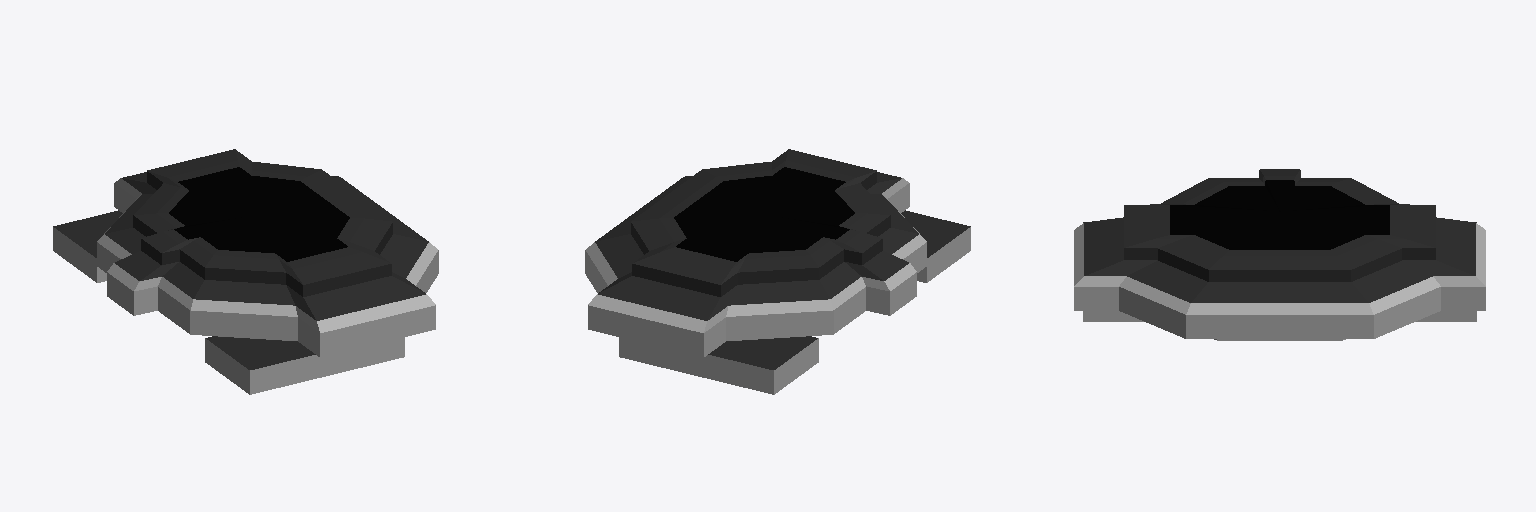
The model's file is Building5.obj.
The picture shows the model from 3 angles: view 1: azimuth 30°, elevation 25°; view 2: azimuth 150°, elevation 25°; view 3: azimuth 270°, elevation 25°; orthographic projection.
Visible parts, largest first — view 1: Roof_Roof_Roof.002, Roof_Roof_Skylight.002, TopLeftWing_LeftWing_Walls.008, TopLeftWing_LeftWing_Roof.008, BottomLeftWing_LeftWing.001_Walls.003, TopFloorFront_TopFloor_Walls.005, TopFloorFront_TopFloor_Roof.005, BottomLeftWing_LeftWing.001_BottomRoof.003, BottomRightWing_RightWing.001_BottomRoof, BottomRightWing_RightWing.001_Walls, TopRightWing_RightWing_Roof.006, TopFloorBack_TopFloor.001_Roof.007 (+1 smaller); view 2: Roof_Roof_Roof.002, Roof_Roof_Skylight.002, TopRightWing_RightWing_Walls.006, TopRightWing_RightWing_Roof.006, BottomRightWing_RightWing.001_Walls, TopFloorFront_TopFloor_Walls.005, TopFloorFront_TopFloor_Roof.005, BottomRightWing_RightWing.001_BottomRoof, BottomLeftWing_LeftWing.001_BottomRoof.003, BottomLeftWing_LeftWing.001_Walls.003, TopLeftWing_LeftWing_Roof.008, TopFloorBack_TopFloor.001_Roof.007 (+1 smaller); view 3: Roof_Roof_Roof.002, Roof_Roof_Skylight.002, TopFloorBack_TopFloor.001_Walls.007, TopRightWing_RightWing_Walls.006, TopLeftWing_LeftWing_Walls.008, TopRightWing_RightWing_Roof.006, TopLeftWing_LeftWing_Roof.008, TopFloorBack_TopFloor.001_Roof.007, BottomRightWing_RightWing.001_Walls, BottomLeftWing_LeftWing.001_Walls.003.
Boxes of the visible parts, box(x1,y1,x2,y2) form: Roof_Roof_Roof.002: box(133, 149, 392, 296); Roof_Roof_Skylight.002: box(169, 167, 349, 261); TopLeftWing_LeftWing_Walls.008: box(190, 242, 438, 357); TopLeftWing_LeftWing_Roof.008: box(194, 234, 428, 320); BottomLeftWing_LeftWing.001_Walls.003: box(205, 337, 404, 394); TopFloorFront_TopFloor_Walls.005: box(97, 234, 192, 333); TopFloorFront_TopFloor_Roof.005: box(105, 228, 203, 298); BottomLeftWing_LeftWing.001_BottomRoof.003: box(206, 336, 315, 369); BottomRightWing_RightWing.001_BottomRoof: box(53, 210, 122, 257); BottomRightWing_RightWing.001_Walls: box(53, 227, 106, 282); TopRightWing_RightWing_Roof.006: box(105, 172, 338, 233); TopFloorBack_TopFloor.001_Roof.007: box(334, 177, 428, 241); Roof_Roof_Roof.002: box(631, 149, 890, 296); Roof_Roof_Skylight.002: box(674, 167, 854, 261); TopRightWing_RightWing_Walls.006: box(585, 242, 833, 357); TopRightWing_RightWing_Roof.006: box(595, 234, 829, 320); BottomRightWing_RightWing.001_Walls: box(619, 337, 818, 394); TopFloorFront_TopFloor_Walls.005: box(831, 234, 926, 333); TopFloorFront_TopFloor_Roof.005: box(820, 228, 918, 298); BottomRightWing_RightWing.001_BottomRoof: box(708, 336, 817, 369); BottomLeftWing_LeftWing.001_BottomRoof.003: box(901, 210, 970, 257); BottomLeftWing_LeftWing.001_Walls.003: box(917, 227, 970, 282); TopLeftWing_LeftWing_Roof.008: box(685, 172, 918, 233); TopFloorBack_TopFloor.001_Roof.007: box(595, 177, 689, 241); Roof_Roof_Roof.002: box(1124, 169, 1435, 281); Roof_Roof_Skylight.002: box(1170, 180, 1389, 249); TopFloorBack_TopFloor.001_Walls.007: box(1186, 303, 1373, 338); TopRightWing_RightWing_Walls.006: box(1369, 223, 1485, 338); TopLeftWing_LeftWing_Walls.008: box(1074, 223, 1190, 338); TopRightWing_RightWing_Roof.006: box(1352, 217, 1475, 302); TopLeftWing_LeftWing_Roof.008: box(1084, 217, 1207, 302); TopFloorBack_TopFloor.001_Roof.007: box(1192, 282, 1367, 302); BottomRightWing_RightWing.001_Walls: box(1416, 311, 1476, 321); BottomLeftWing_LeftWing.001_Walls.003: box(1083, 311, 1143, 321).
Size of the model in its own units: 35 by 10.2 by 46.